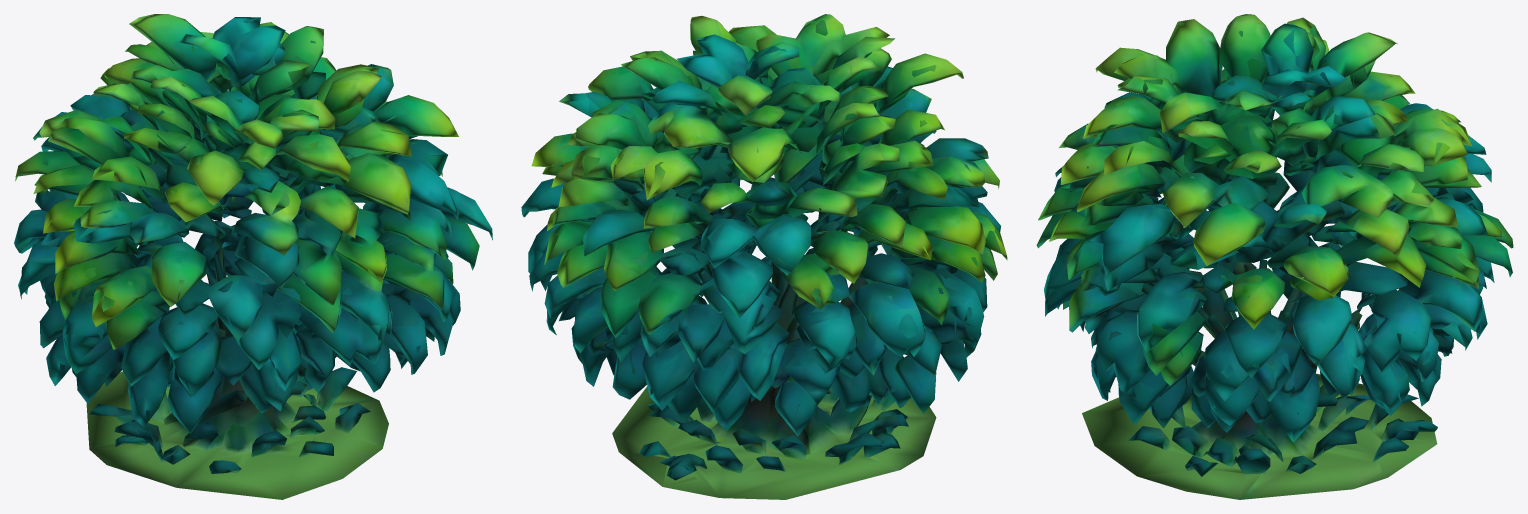
The model's file is DECOR2.glb.
3 views of the same model, side by side, from view 1: azimuth 30°, elevation 25°; view 2: azimuth 150°, elevation 25°; view 3: azimuth 270°, elevation 25° (orthographic). The views are drawn at different scales.
Parts seen in each view (by area): view 1: node_0; view 2: node_0; view 3: node_0.
Part boxes in pixels (x1,y1,x2,y2): node_0: (14, 14, 492, 499); node_0: (521, 14, 1007, 499); node_0: (1036, 14, 1513, 499).
Size of the model in its own units: 0.9658 by 0.8759 by 0.9628.
1 material, 1 textured.
